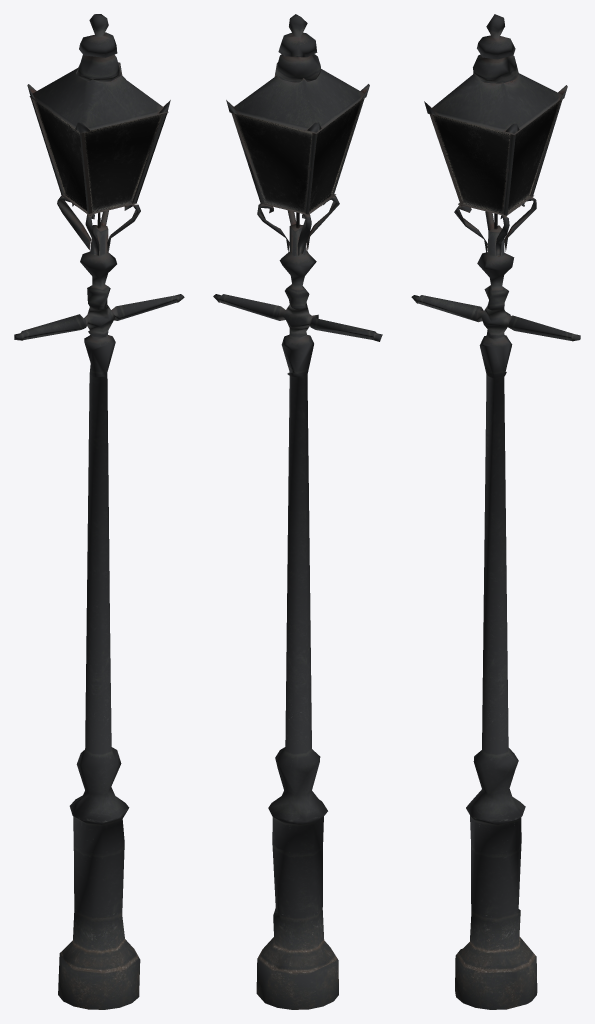
Rendered from street_lamp_01.glb.
3 renders of one model, left to right at view 1: azimuth 30°, elevation 25°; view 2: azimuth 150°, elevation 25°; view 3: azimuth 330°, elevation 25°, orthographic.
Visible parts, largest first — view 1: street_lamp_01; view 2: street_lamp_01; view 3: street_lamp_01.
Part boxes in pixels (x1=…): street_lamp_01: x1=14, y1=14, x2=184, y2=1009; street_lamp_01: x1=213, y1=14, x2=382, y2=1009; street_lamp_01: x1=411, y1=14, x2=580, y2=1009.
Bounding box in the file's own units: 0.6964 × 3.87 × 0.3844.
2 materials, 2 textured.
